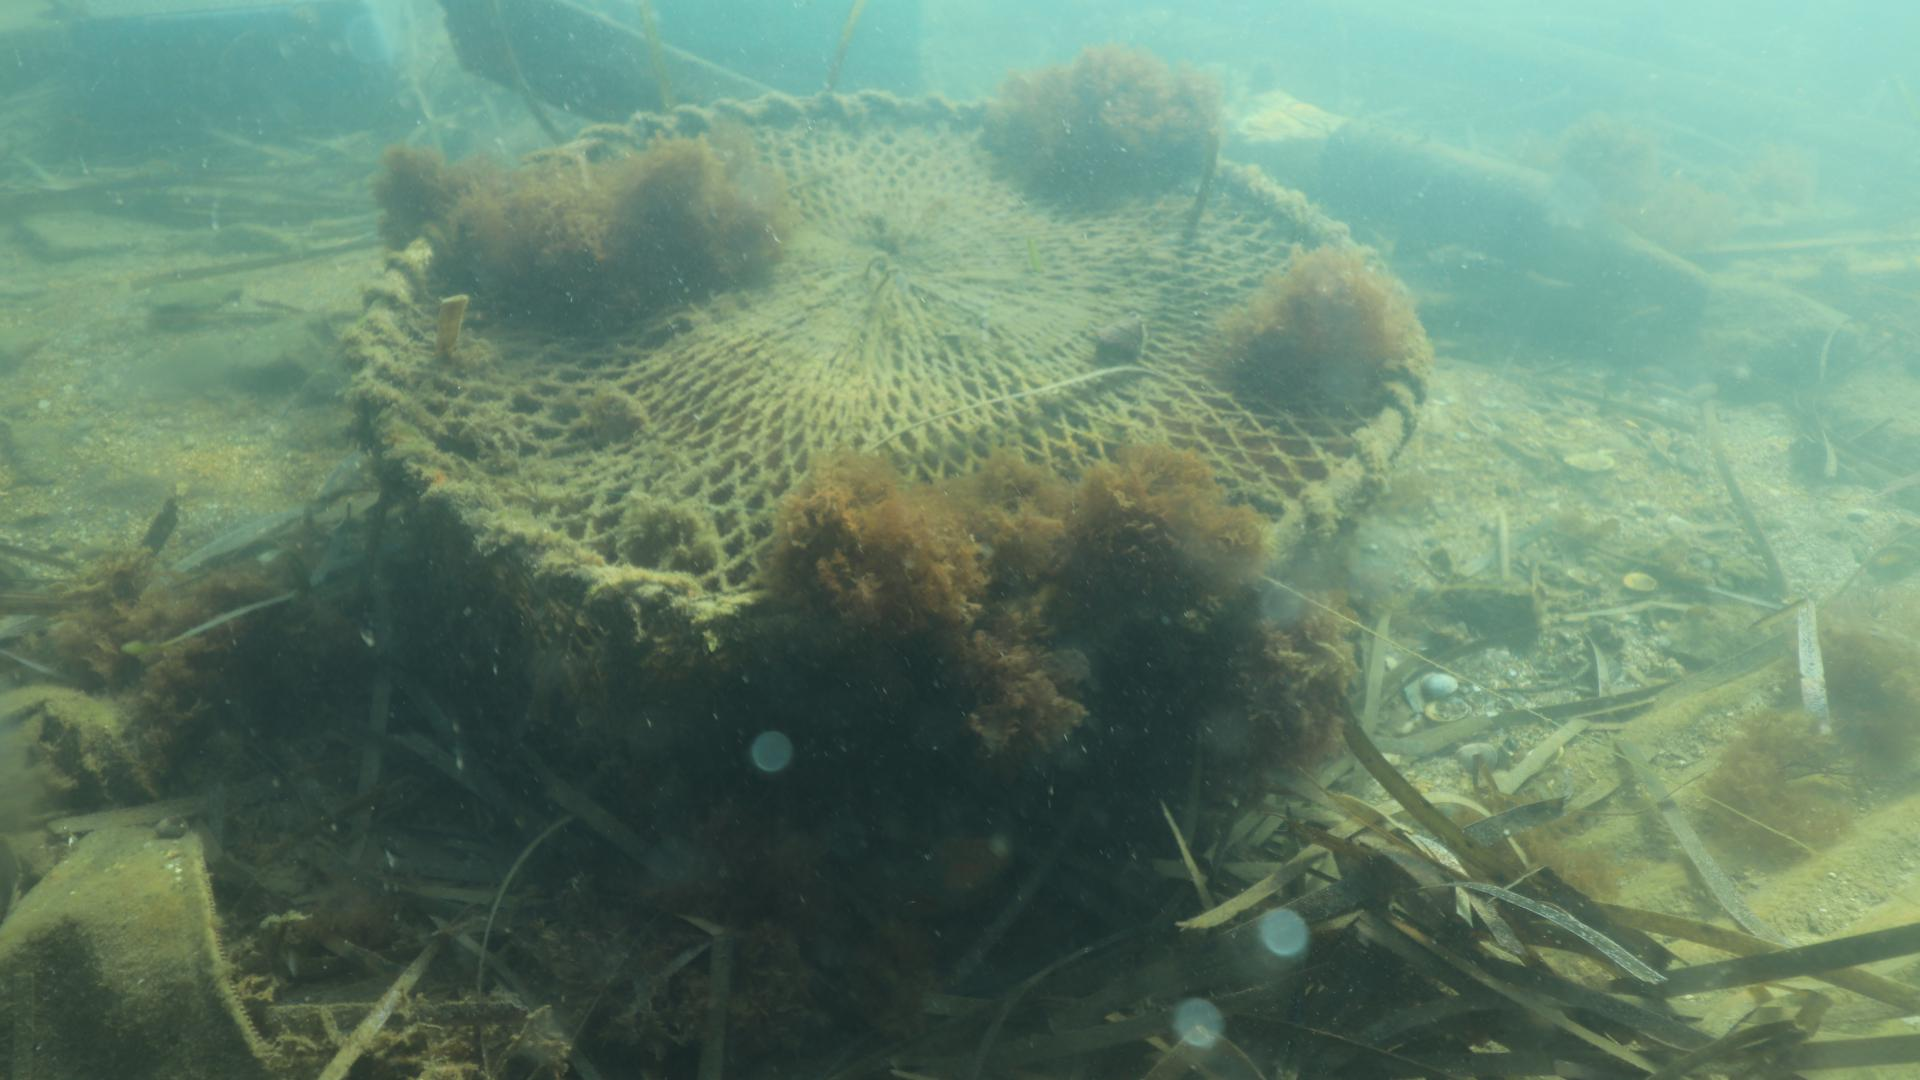circular fish trap: (342, 80, 1440, 802)
